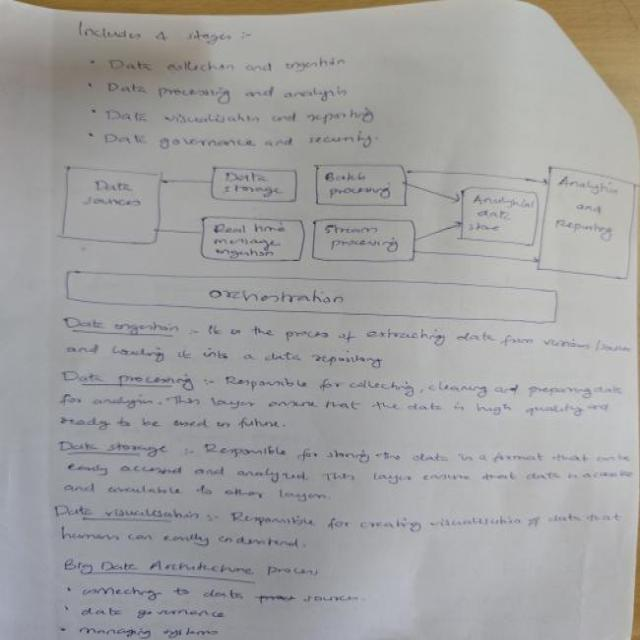Figure Detection - v3 Dataset Version2: (28, 149, 640, 331)
